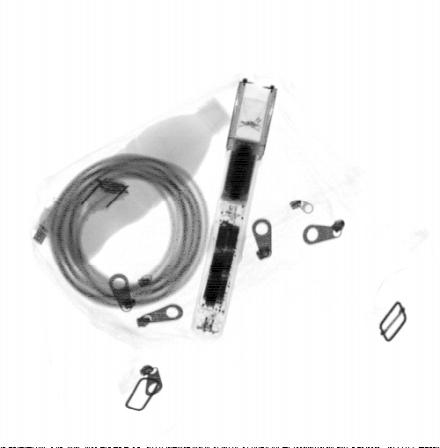Baton: (189, 76, 280, 342)
